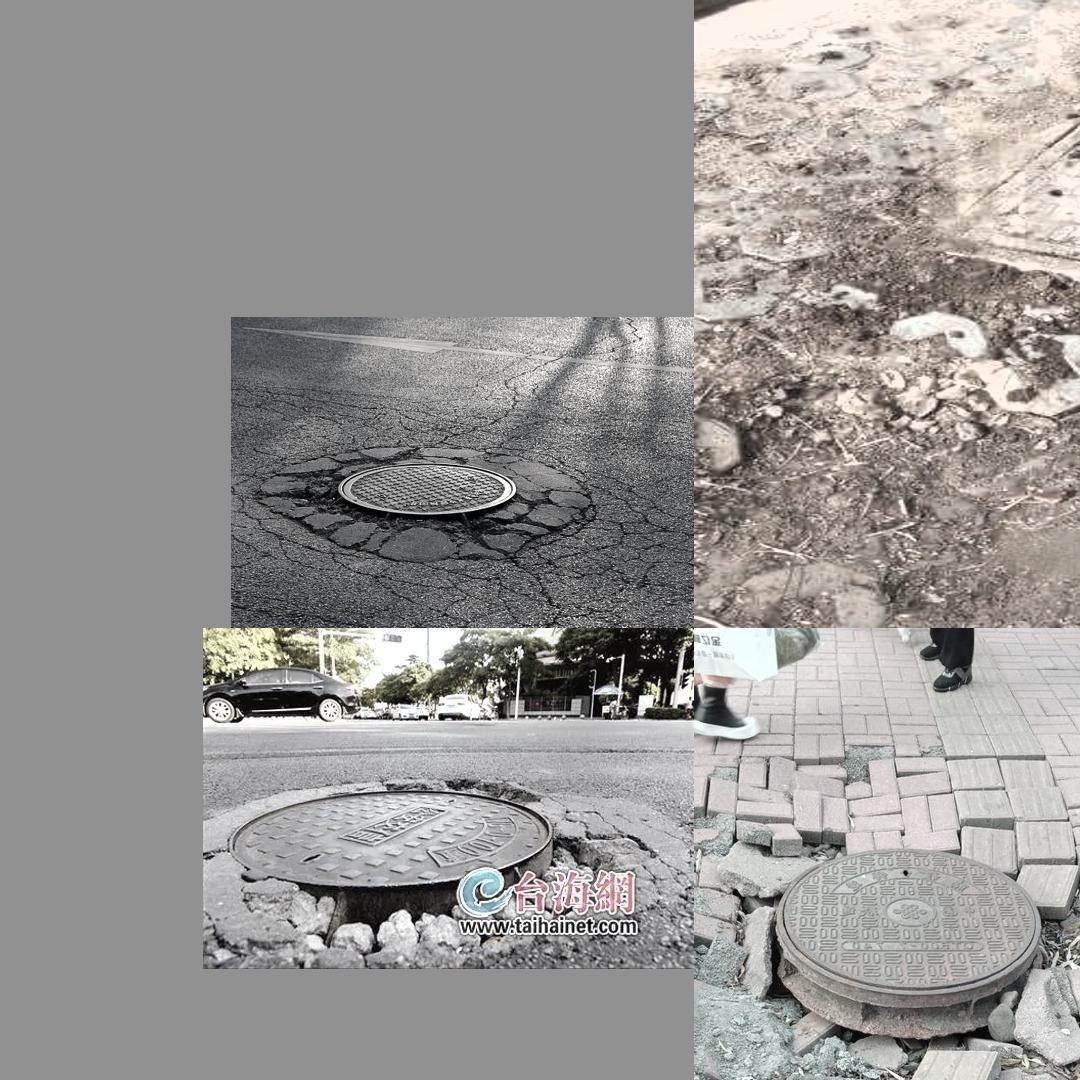circle: (699, 767, 1080, 1080), (211, 777, 667, 949), (885, 59, 1080, 344), (288, 441, 605, 577)
